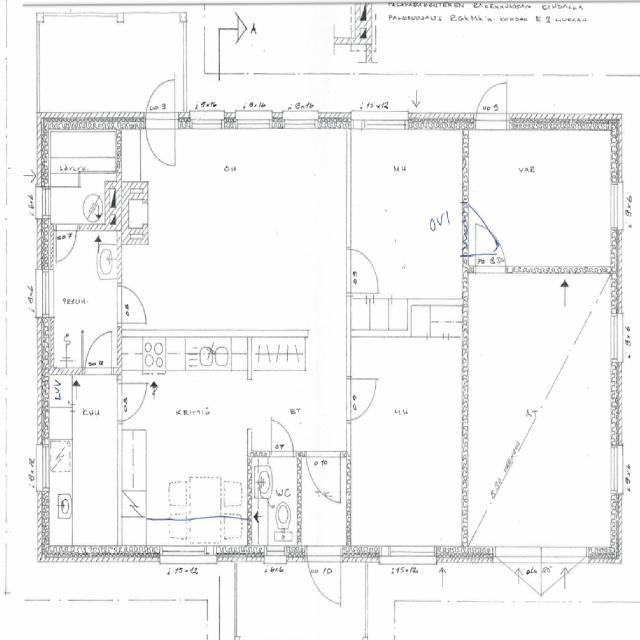door: (541, 544, 588, 630), (494, 544, 540, 630), (306, 544, 341, 610), (462, 203, 504, 254), (476, 69, 507, 131), (306, 450, 340, 504), (145, 71, 175, 131), (145, 113, 175, 171), (475, 222, 505, 274), (346, 249, 381, 293), (346, 379, 380, 420), (85, 331, 111, 374), (118, 383, 148, 420), (118, 286, 148, 322), (272, 419, 293, 457), (56, 224, 77, 258)
